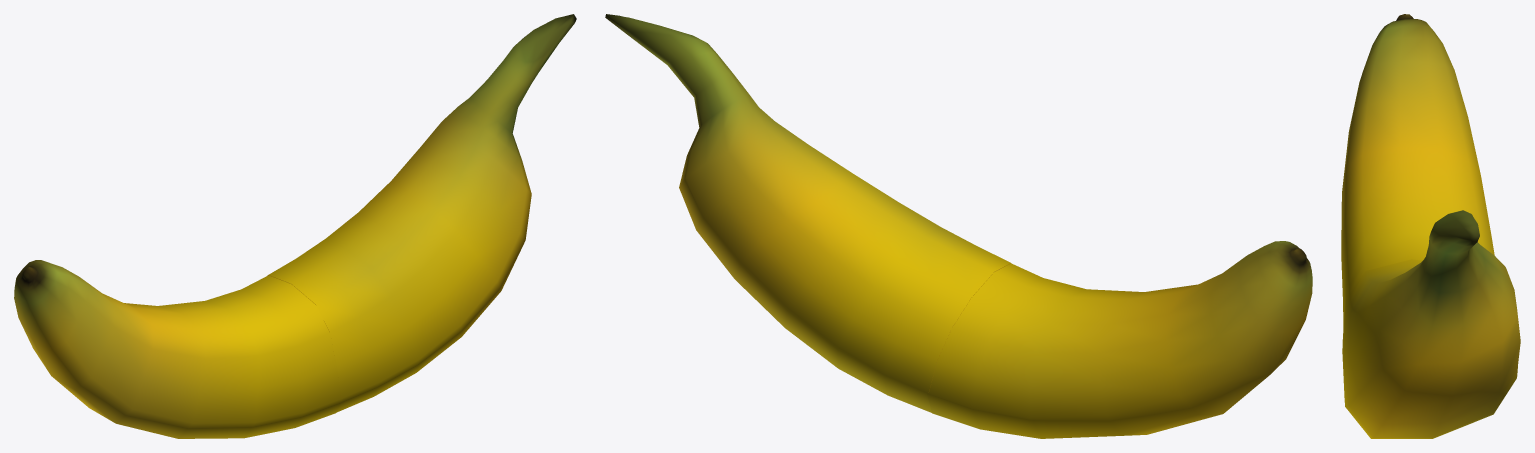
The model's file is Бананчик.fbx.
The picture shows the model from 3 angles, left to right: view 1: azimuth 30°, elevation 25°; view 2: azimuth 150°, elevation 25°; view 3: azimuth 270°, elevation 25°; orthographic projection. The views are drawn at different scales.
Visible parts, largest first — view 1: правая часть, левая часть; view 2: правая часть, левая часть; view 3: правая часть, левая часть.
Part boxes in pixels (bbox=[...]): правая часть: bbox=[267, 14, 576, 412]; левая часть: bbox=[14, 260, 343, 438]; правая часть: bbox=[605, 14, 1010, 412]; левая часть: bbox=[926, 241, 1312, 438]; правая часть: bbox=[1342, 210, 1520, 438]; левая часть: bbox=[1341, 14, 1494, 334].
Size of the model in its own units: 32.57 by 15.98 by 7.44.
